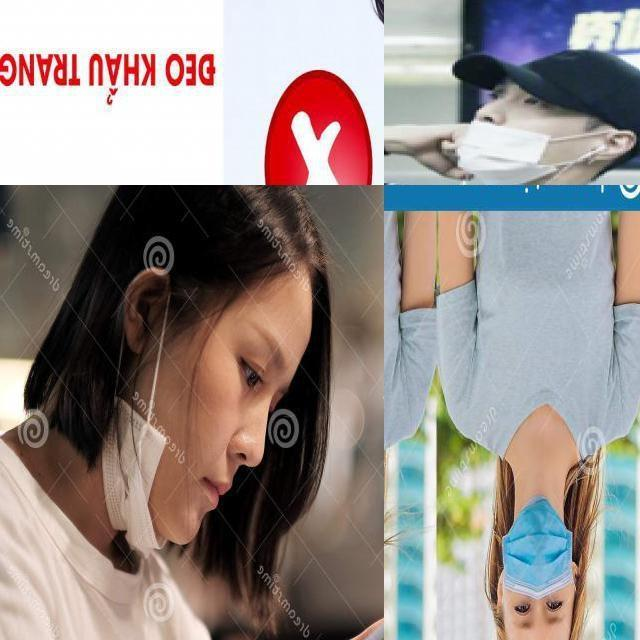hairnet: (74, 277, 288, 571), (427, 76, 630, 190)
mask: (494, 492, 577, 601)
no_gloves: (489, 612, 587, 640)
